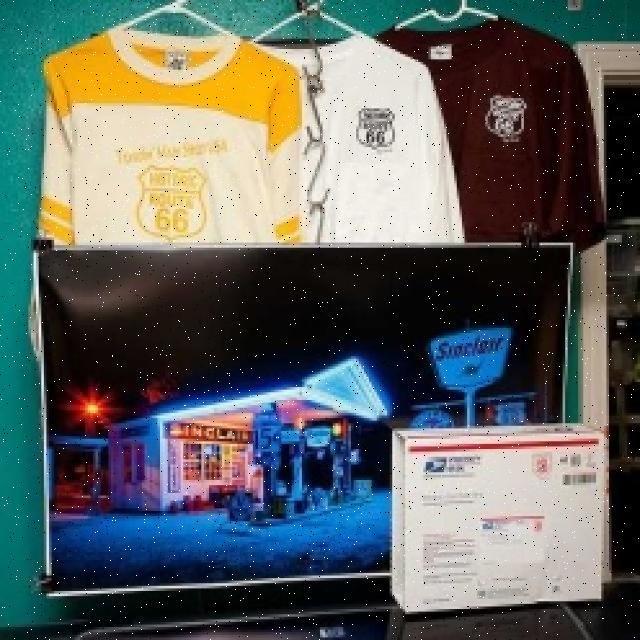box: (396, 437, 606, 605)
